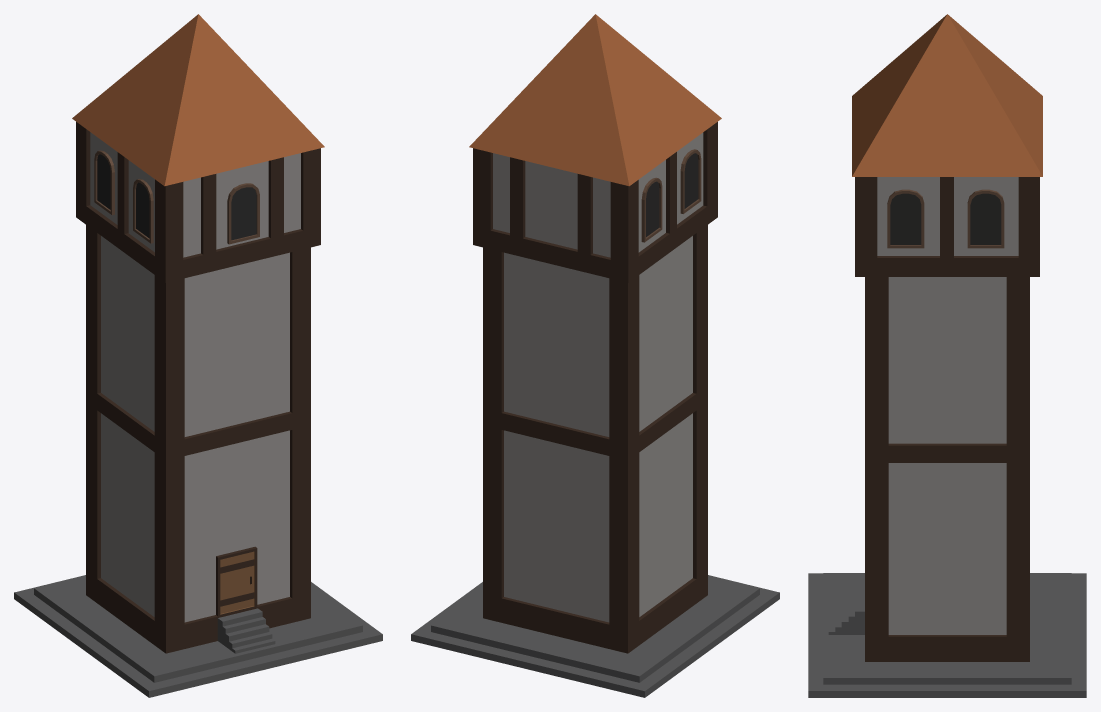
The model's file is building_C.fbx.
3 views of the same model, side by side, from view 1: azimuth 30°, elevation 25°; view 2: azimuth 150°, elevation 25°; view 3: azimuth 270°, elevation 25° (orthographic). The views are drawn at different scales.
Visible parts, largest first — view 1: floor_st1, floorwood_st1, roof, floor, floorwood_2nd, floor_2nd, door, stairs, window1_C, window2_C, window3_C; view 2: floor_st1, floorwood_st1, roof, floor, floorwood_2nd, floor_2nd, window3_C, window2_C; view 3: floor_st1, floorwood_st1, roof, floor, floorwood_2nd, floor_2nd, window4_C, window5_C, stairs.
Boxes of the visible parts, x1,y1,x2,y2 form: floor_st1: (101,236,289,622); floorwood_st1: (86,225,310,653); roof: (72,14,324,186); floor: (14,575,382,697); floorwood_2nd: (76,122,320,282); floor_2nd: (90,132,300,257); door: (216,546,257,616); stairs: (217,608,275,653); window1_C: (227,183,259,244); window2_C: (133,179,153,243); window3_C: (94,150,114,215); floor_st1: (504,236,692,622); floorwood_st1: (483,225,707,653); roof: (469,14,721,186); floor: (411,575,779,697); floorwood_2nd: (473,122,717,282); floor_2nd: (493,132,703,257); window3_C: (641,177,662,242); window2_C: (680,149,701,213); floor_st1: (888,277,1006,634); floorwood_st1: (865,277,1029,661); roof: (852,14,1042,176); floor: (808,573,1086,697); floorwood_2nd: (855,177,1039,276); floor_2nd: (877,177,1018,255); window4_C: (887,189,924,248); window5_C: (967,189,1004,248); stairs: (828,591,864,634).
Bounding box in the file's own units: 18.67 × 46.26 × 18.67.
